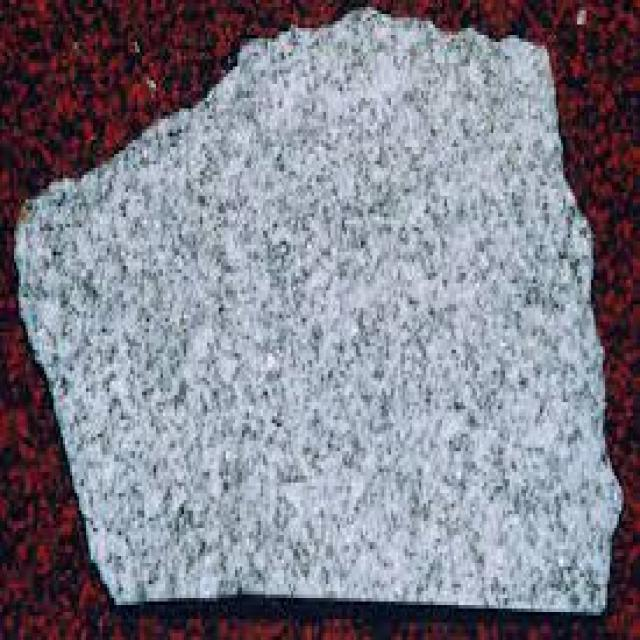Metamorphic: (9, 11, 614, 626)
